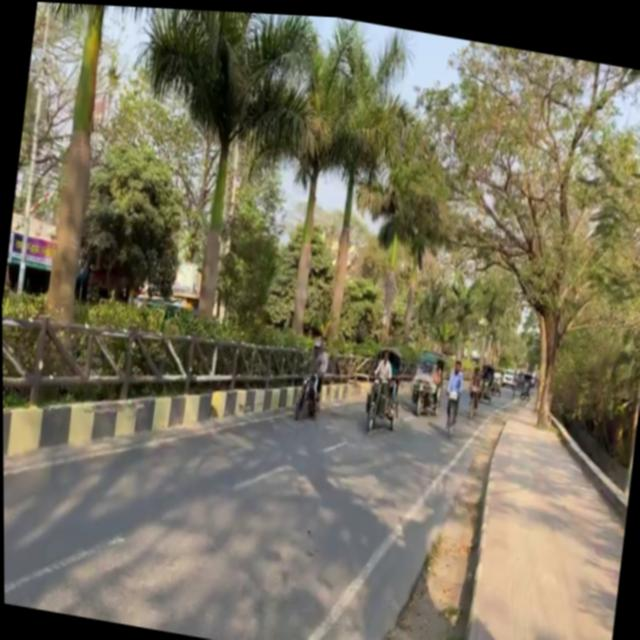Construction-barrier: (447, 383, 523, 640), (535, 402, 635, 515)
Fallen-tree: (291, 364, 323, 421), (407, 369, 440, 414), (518, 373, 532, 394)
Garbage-bin: (366, 342, 397, 414)
Pole: (2, 259, 380, 529)
Pothole: (453, 372, 639, 640)
